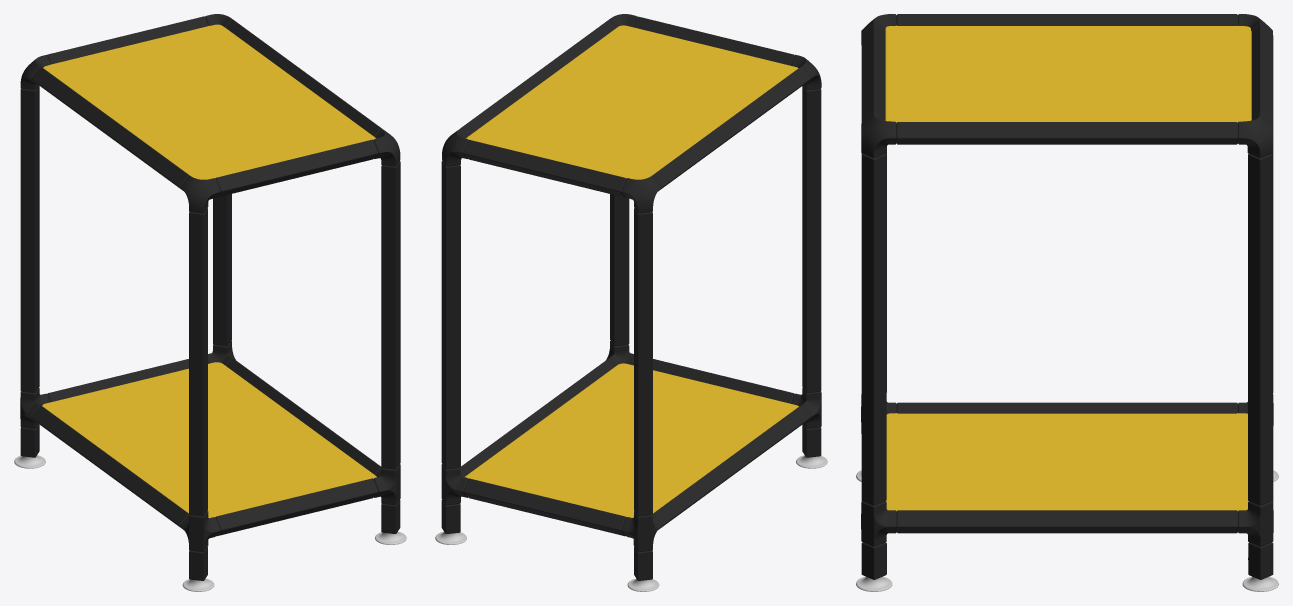
The picture shows the model from 3 angles, left to right: view 1: azimuth 30°, elevation 25°; view 2: azimuth 150°, elevation 25°; view 3: azimuth 270°, elevation 25°; orthographic projection. The views are drawn at different scales.
Visible parts, largest first — view 1: 229x374x420; view 2: 229x374x420; view 3: 229x374x420.
Boxes of the visible parts, x1,y1,x2,y2 form: 229x374x420: (14, 14, 406, 591); 229x374x420: (435, 14, 827, 591); 229x374x420: (856, 14, 1278, 591).
Size of the model in its own units: 0.3189 by 0.5593 by 0.4632.
